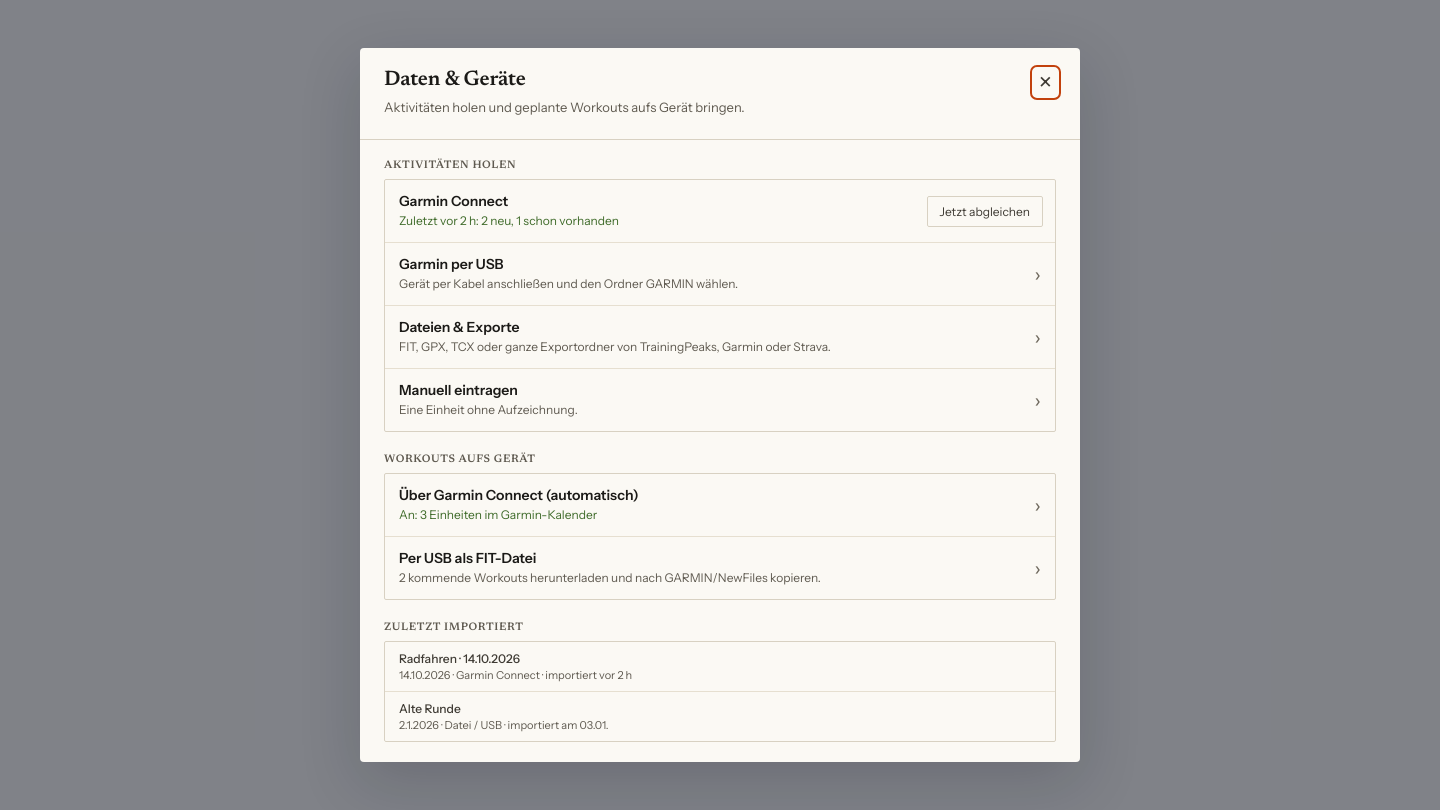
syncs Garmin Connect straight from the overview
The image size is (1440, 810).
Click the button "Jetzt abgleichen". click: [985, 211]
box: x1=926 y1=196 x2=1043 y2=227
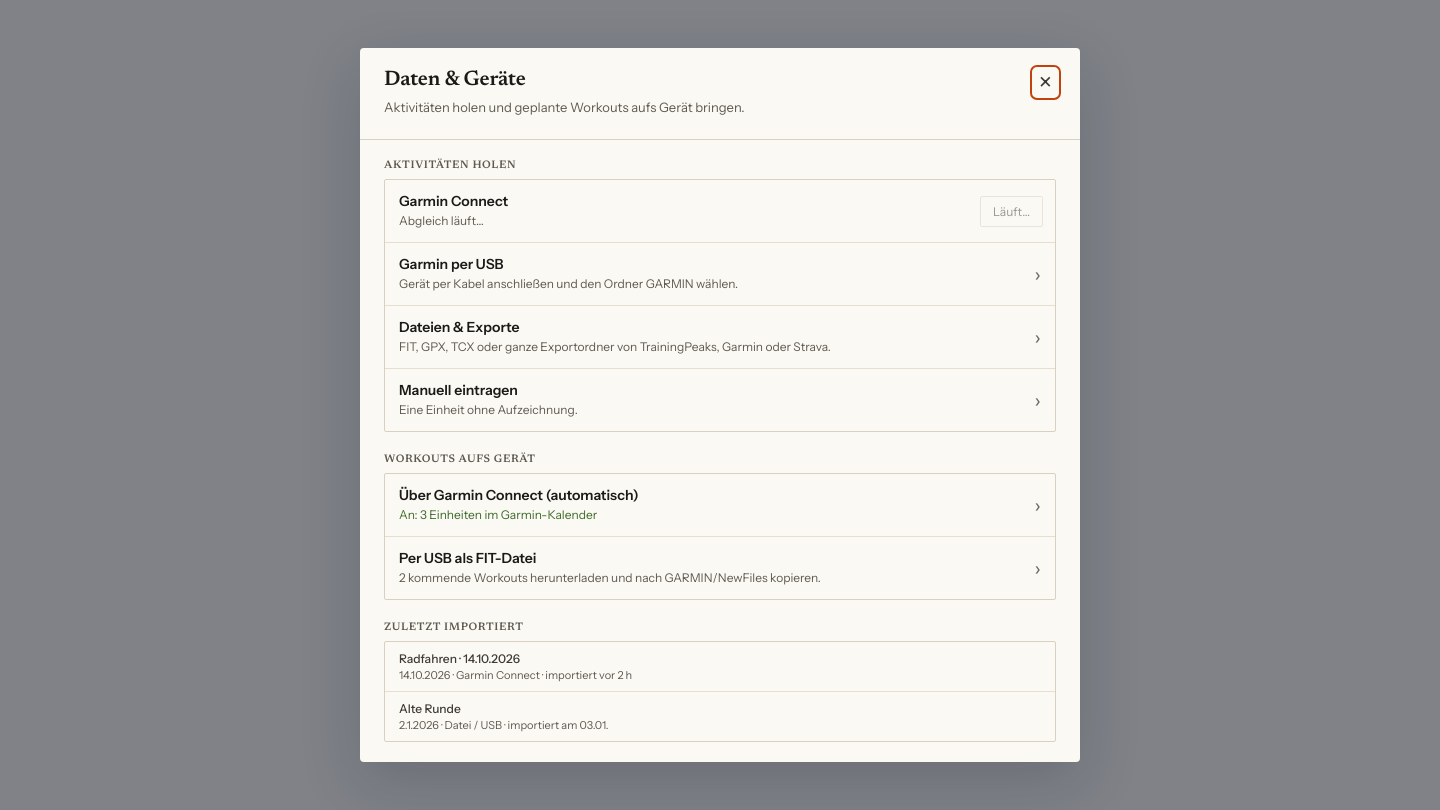
Now the button "Läuft…" is disabled, box x1=980 y1=196 x2=1043 y2=227
